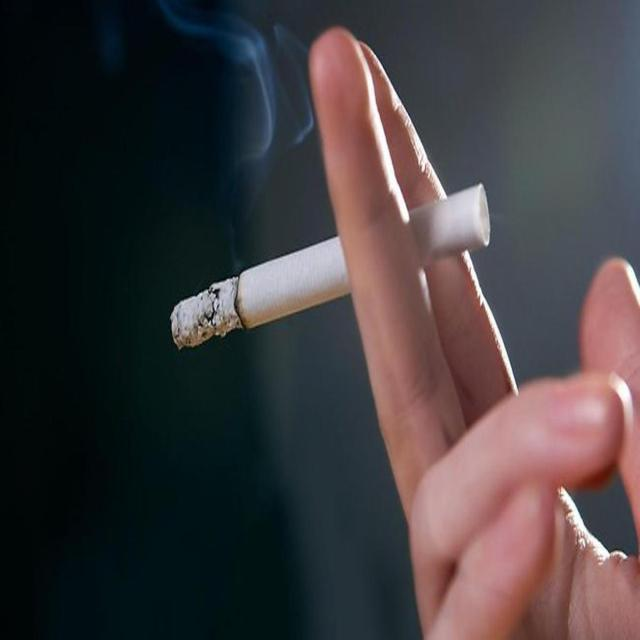rokok: (164, 174, 498, 356)
